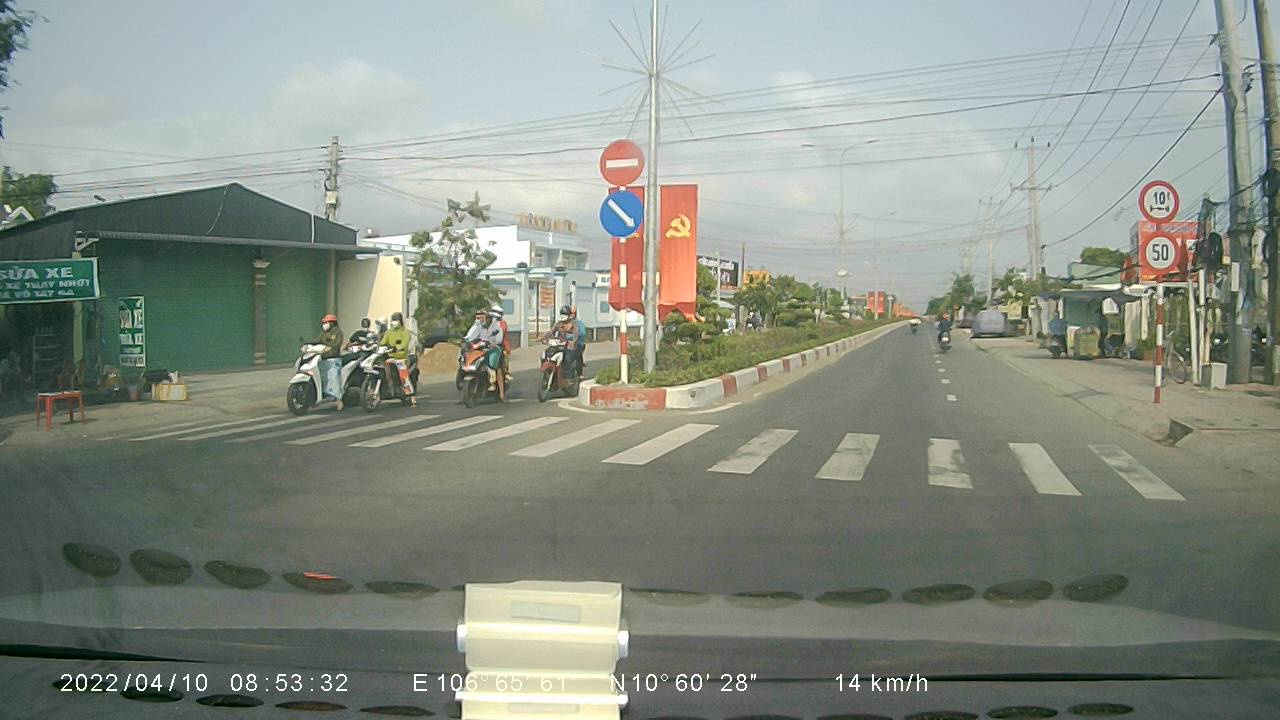Bien khac: (1136, 178, 1181, 224), (1138, 229, 1182, 276)
Cam di nguoc chieu: (596, 135, 648, 186)
Huong di phai re phai: (597, 187, 642, 237)
